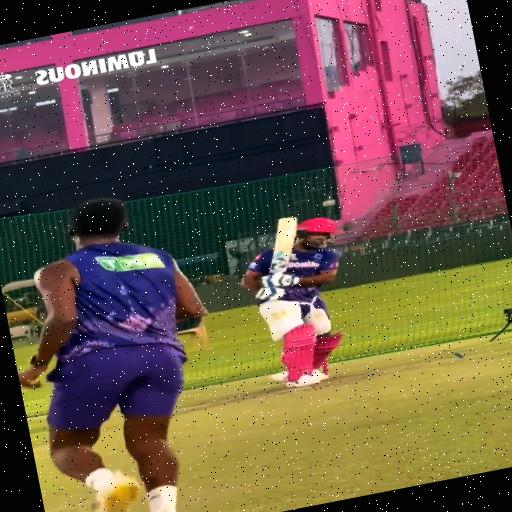Cricket bat: (270, 217, 298, 273)
